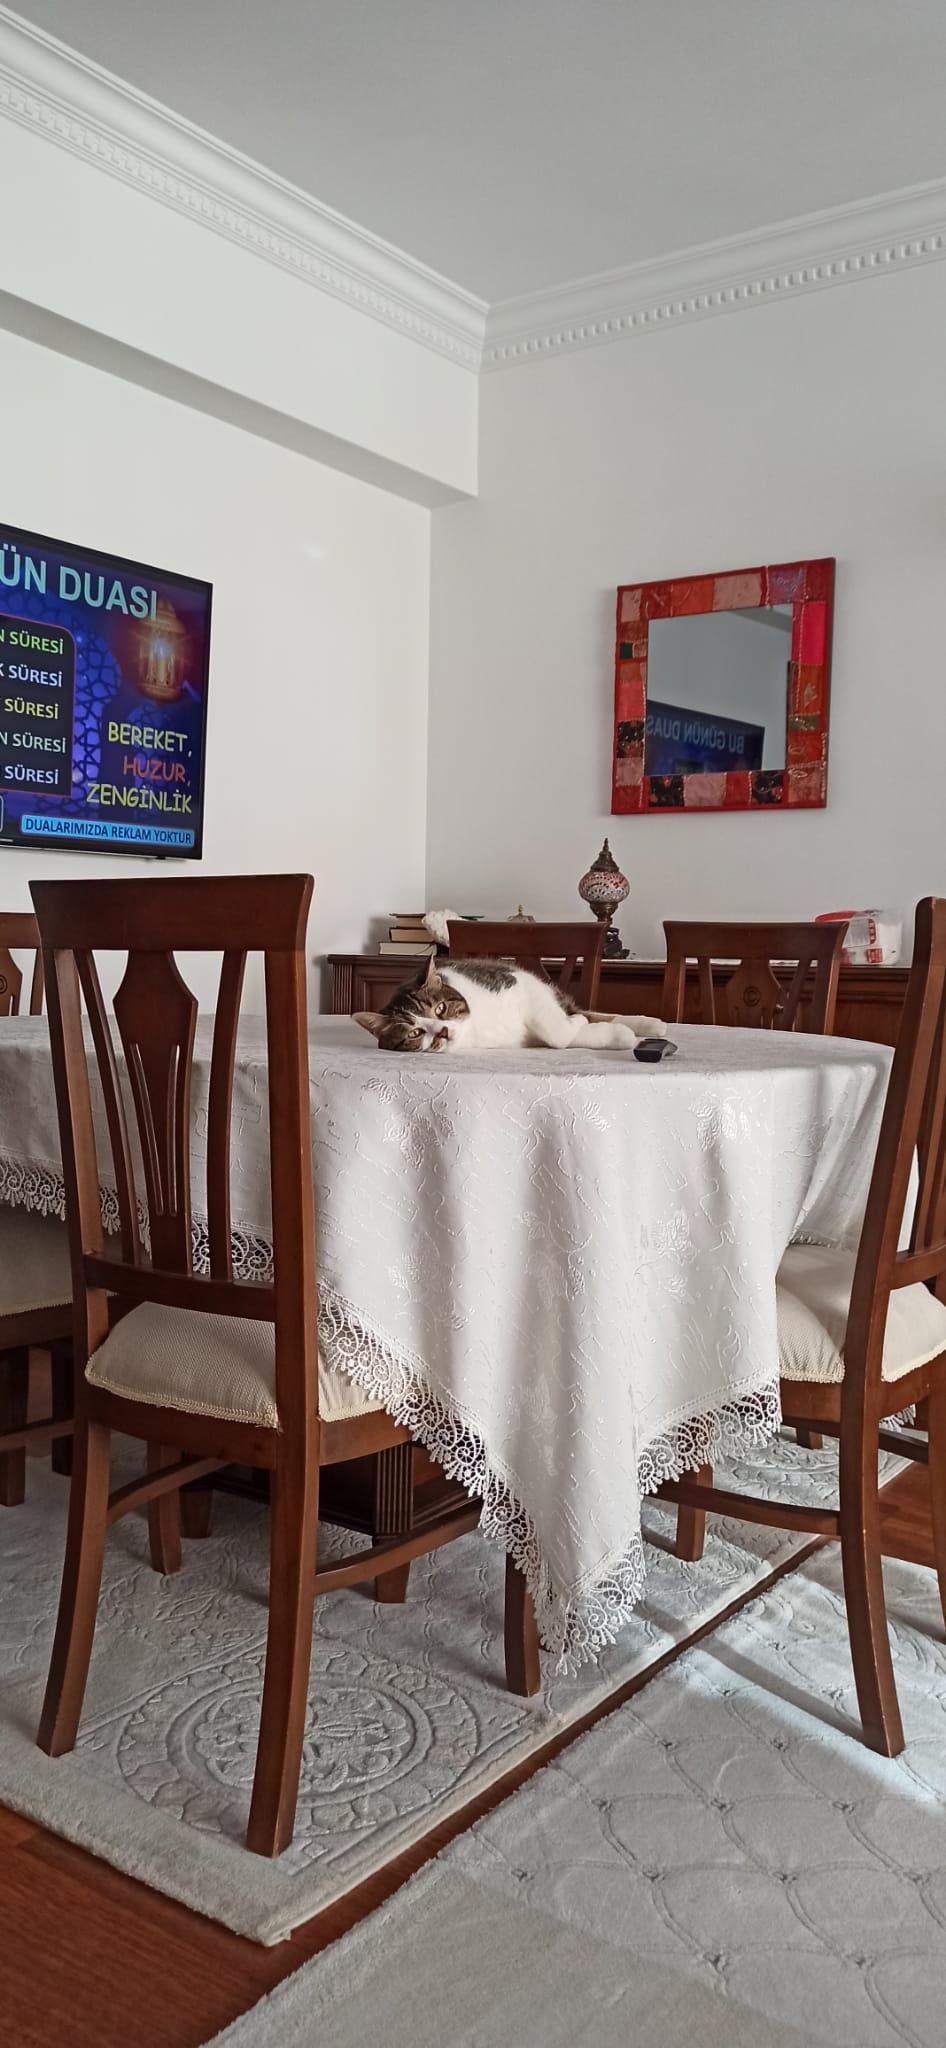kedo: (353, 955, 668, 1054)
